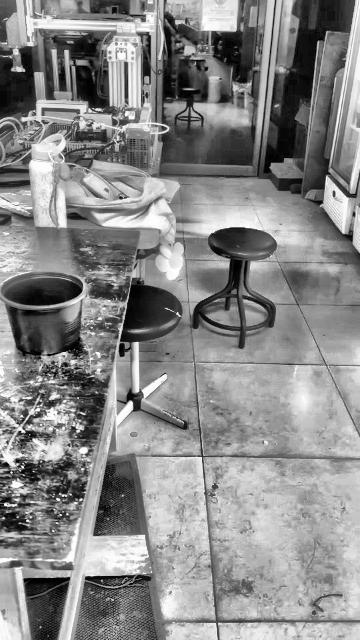pot: (0, 271, 87, 354)
